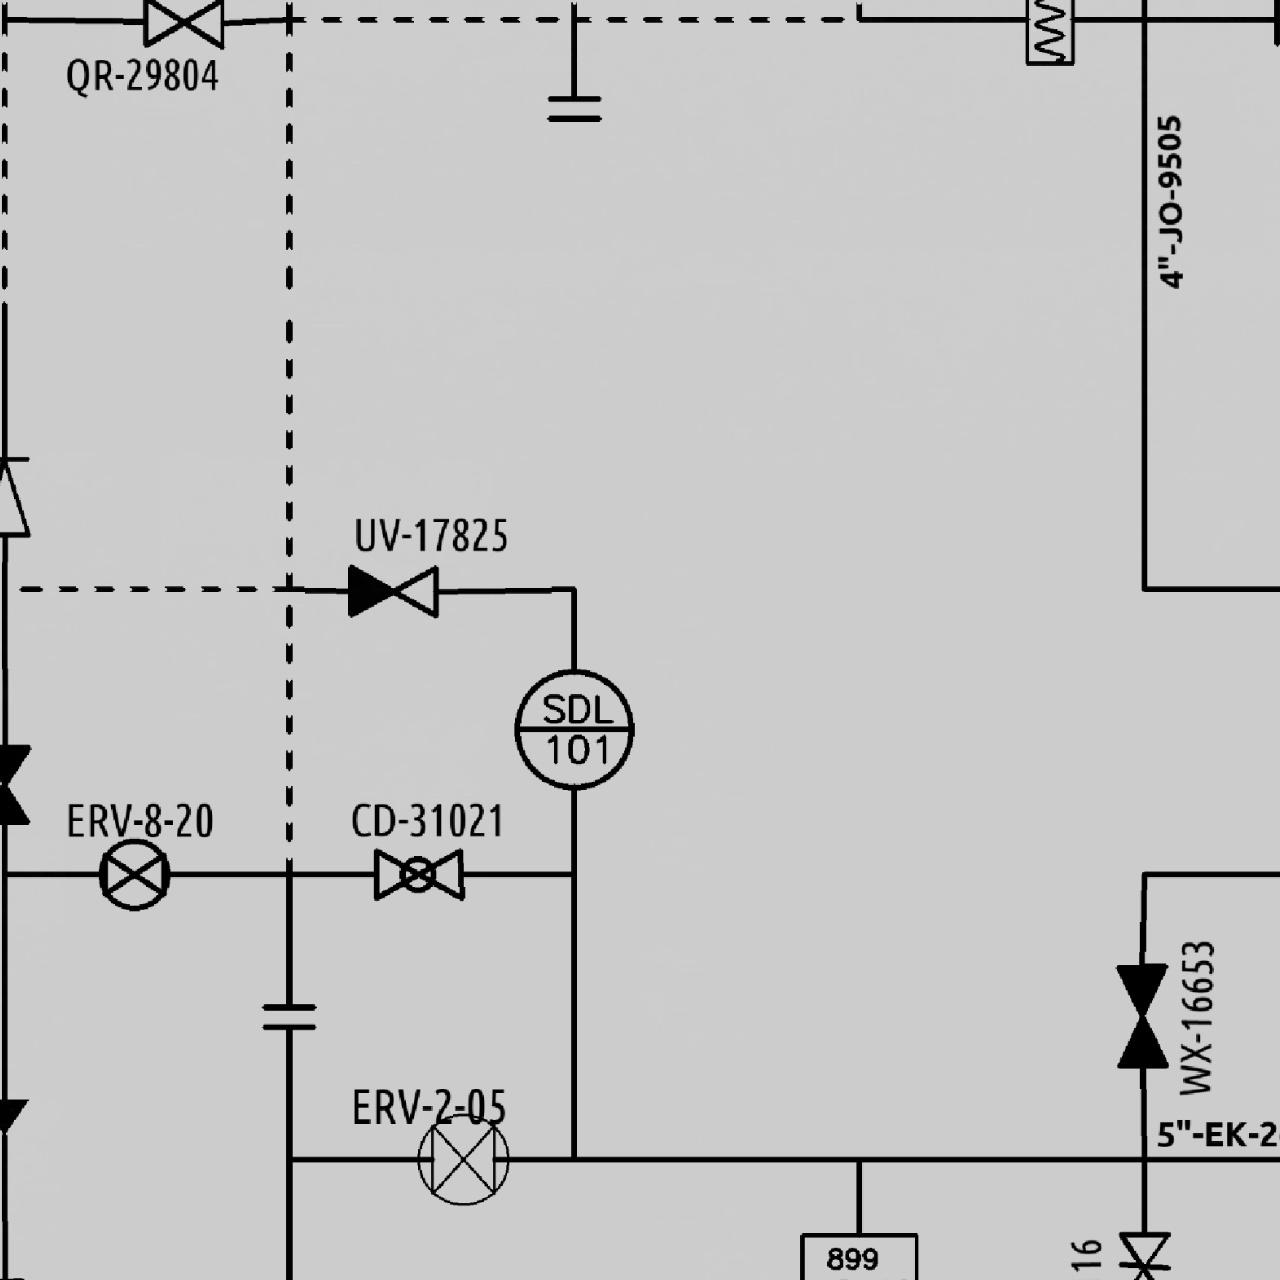Half closed valve: (343, 560, 441, 621)
